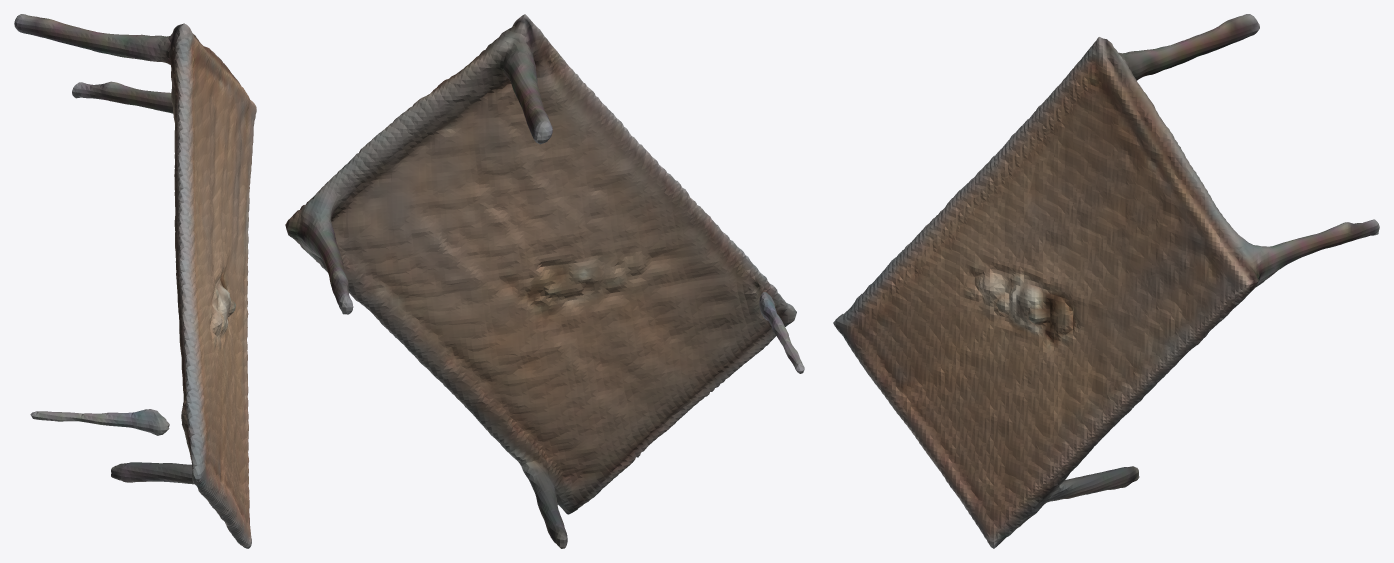
The picture shows the model from 3 angles, left to right: view 1: azimuth 30°, elevation 25°; view 2: azimuth 150°, elevation 25°; view 3: azimuth 270°, elevation 25°; orthographic projection. The views are drawn at different scales.
Parts seen in each view (by area): view 1: world; view 2: world; view 3: world.
Boxes of the visible parts, x1,y1,x2,y2 form: world: [14, 14, 256, 548]; world: [285, 14, 804, 548]; world: [833, 14, 1379, 548].
Bounding box in the file's own units: 0.7442 × 1.01 × 0.9898.
